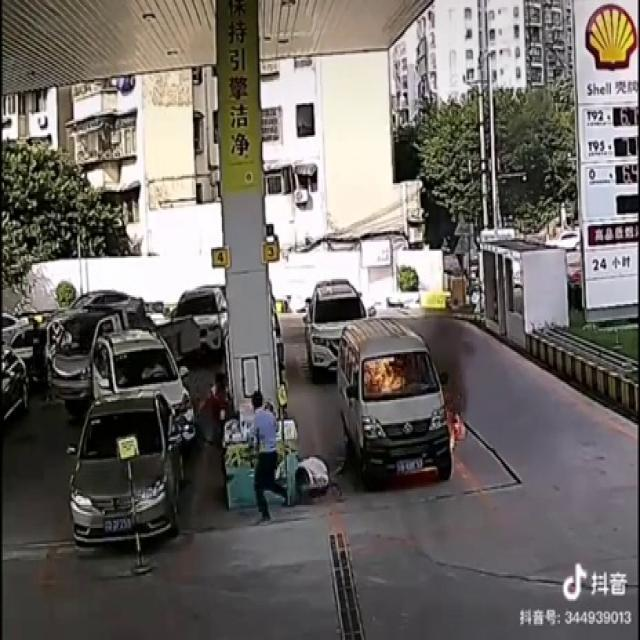Fire: (361, 350, 407, 398), (446, 405, 468, 455)
Smoke: (416, 286, 480, 406)
